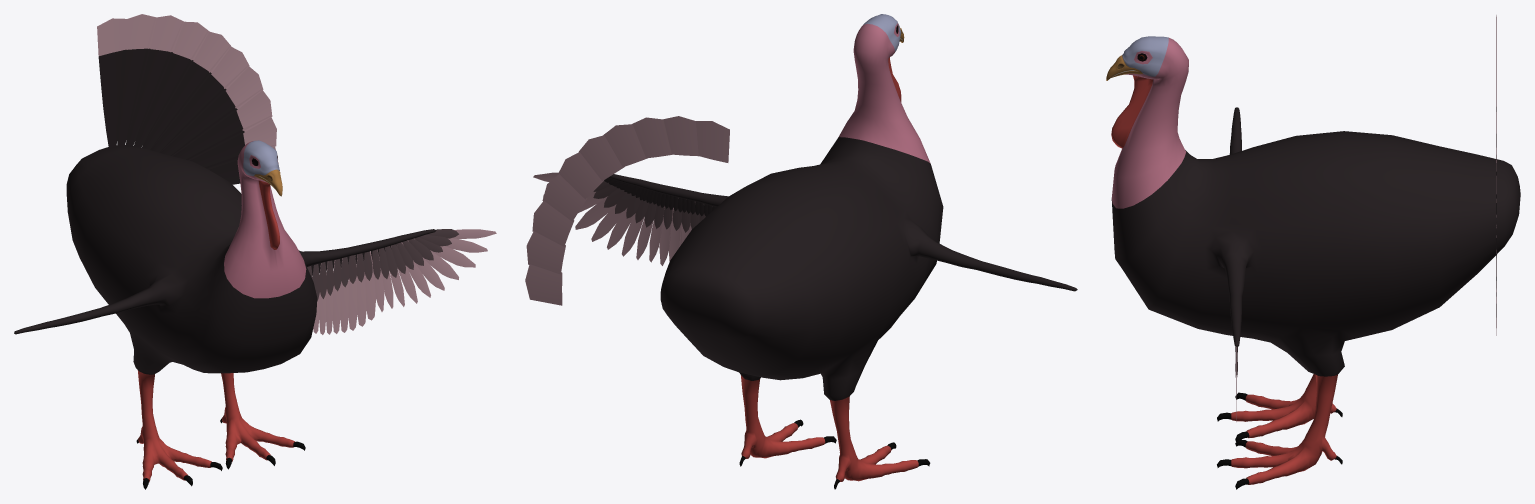
Rendered from turkey.obj.
3 views of the same model, side by side, from view 1: azimuth 30°, elevation 25°; view 2: azimuth 150°, elevation 25°; view 3: azimuth 270°, elevation 25° (orthographic). The views are drawn at different scales.
Parts seen in each view (by area): view 1: turkey, feather_tail_primary_010, feather_tail_primary_009, feather_tail_primary_008, feather_tail_primary_007, feather_tail_primary_006, feather_tail_primary_005, feather_tail_primary_004, feather_tail_primary_003, feather_tail_primary_002, feather_tail_primary_001; view 2: turkey, feather_tail_primary_001, feather_tail_primary_010, feather_tail_primary_008, feather_tail_primary_002, feather_tail_primary_009, feather_tail_primary_007, feather_tail_primary_003, feather_tail_primary_005, feather_tail_primary_006, feather_tail_primary_004; view 3: turkey.
Part boxes in pixels (left/top/right/bottom): turkey: left=14, top=140, right=436, bottom=489; feather_tail_primary_010: left=97, top=18, right=128, bottom=148; feather_tail_primary_009: left=117, top=14, right=156, bottom=146; feather_tail_primary_008: left=125, top=15, right=183, bottom=145; feather_tail_primary_007: left=134, top=21, right=209, bottom=147; feather_tail_primary_006: left=142, top=31, right=231, bottom=149; feather_tail_primary_005: left=150, top=46, right=249, bottom=152; feather_tail_primary_004: left=159, top=65, right=263, bottom=156; feather_tail_primary_003: left=170, top=89, right=272, bottom=160; feather_tail_primary_002: left=186, top=115, right=276, bottom=169; feather_tail_primary_001: left=205, top=145, right=277, bottom=184; turkey: left=608, top=14, right=1077, bottom=489; feather_tail_primary_001: left=525, top=264, right=562, bottom=305; feather_tail_primary_010: left=696, top=121, right=729, bottom=162; feather_tail_primary_008: left=632, top=117, right=671, bottom=158; feather_tail_primary_002: left=526, top=231, right=565, bottom=274; feather_tail_primary_009: left=663, top=116, right=698, bottom=156; feather_tail_primary_007: left=603, top=124, right=647, bottom=167; feather_tail_primary_003: left=532, top=201, right=574, bottom=246; feather_tail_primary_005: left=558, top=152, right=603, bottom=199; feather_tail_primary_006: left=579, top=135, right=624, bottom=180; feather_tail_primary_004: left=542, top=174, right=587, bottom=221; turkey: left=1106, top=36, right=1520, bottom=489.
Size of the model in its own units: 1.43 by 1.05 by 0.9225.
